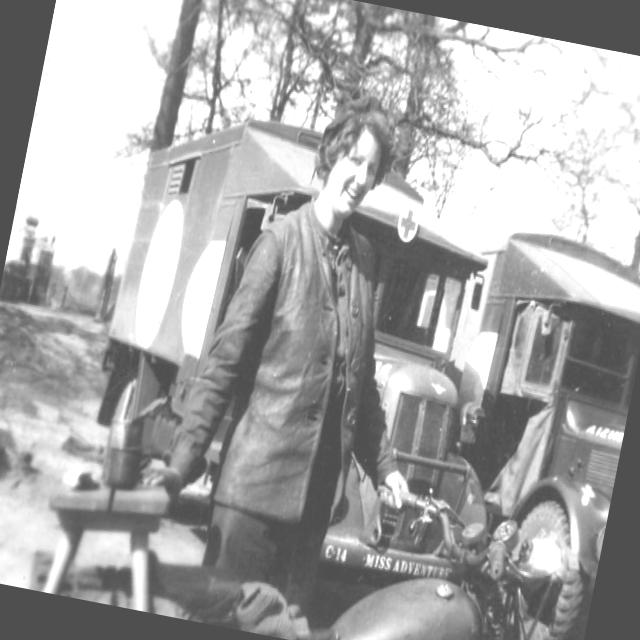Vehicle: (70, 92, 560, 603), (383, 222, 640, 640), (296, 473, 605, 640)
